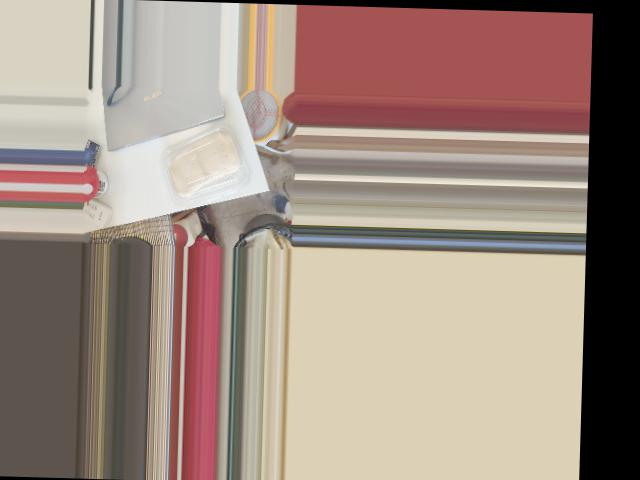cheese: (155, 121, 259, 208)
